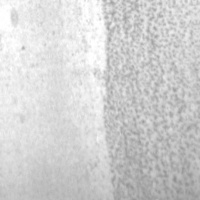pitted_surface: (90, 1, 199, 199)
